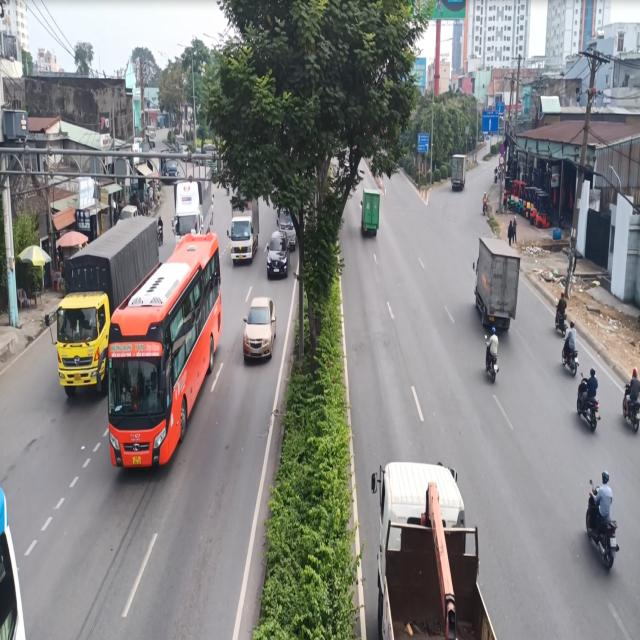bus: (105, 221, 228, 486)
car: (242, 284, 278, 362), (266, 227, 290, 281)
motor: (581, 460, 620, 572), (575, 351, 602, 437), (622, 362, 640, 440), (483, 318, 502, 382), (562, 320, 580, 376)
truck: (468, 232, 522, 337), (227, 185, 259, 271), (360, 179, 386, 240)
